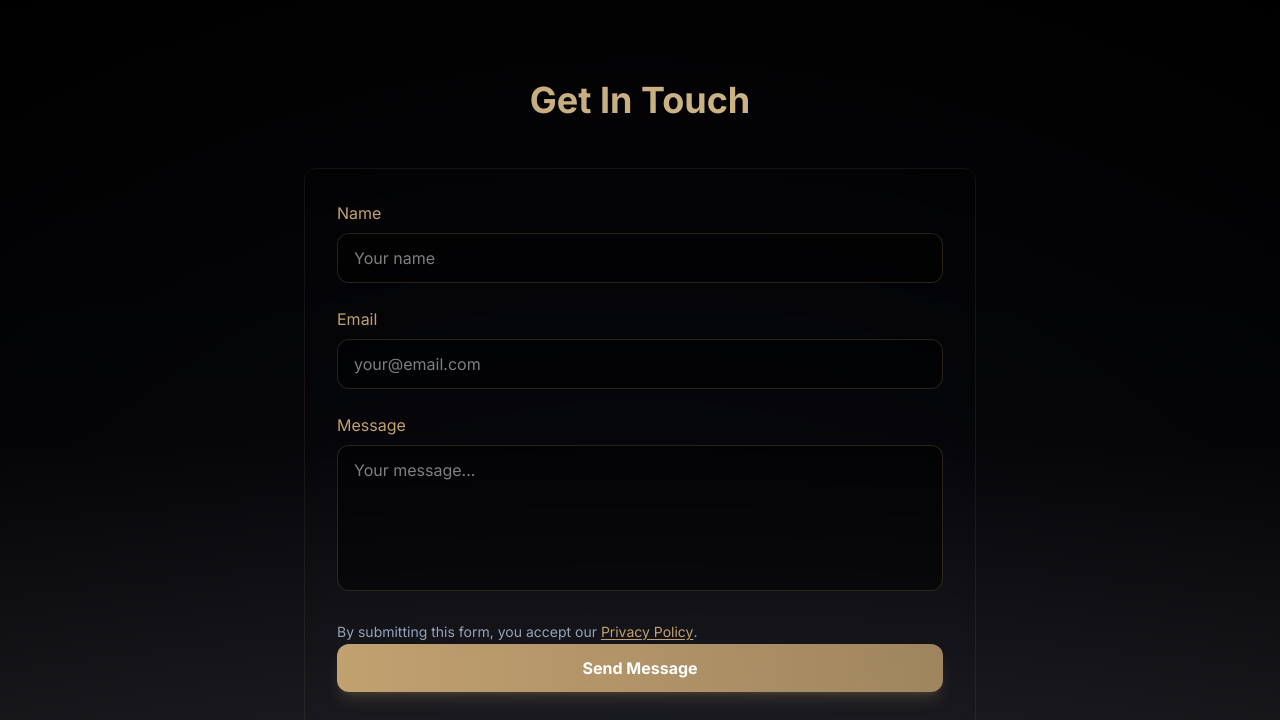
it: Contact Component › Form Submission with API URL from Environment Variable › shows error message if fetch itself throws an error (env var)
Type "Test User" into the field labelled "Name".
click(640, 258); type("Test User")  # box [337, 233, 943, 283]
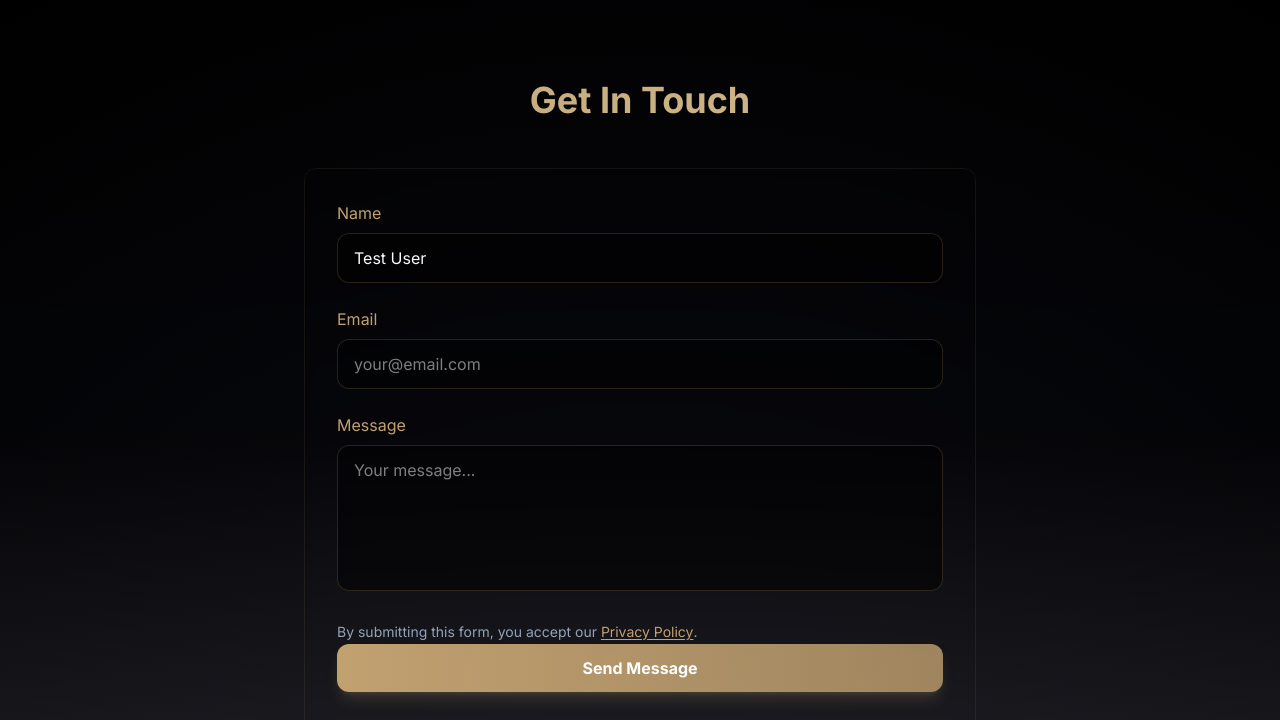
Type "test@example.com" into the field labelled "Email".
click(640, 364); type("test@example.com")  # box [337, 339, 943, 389]
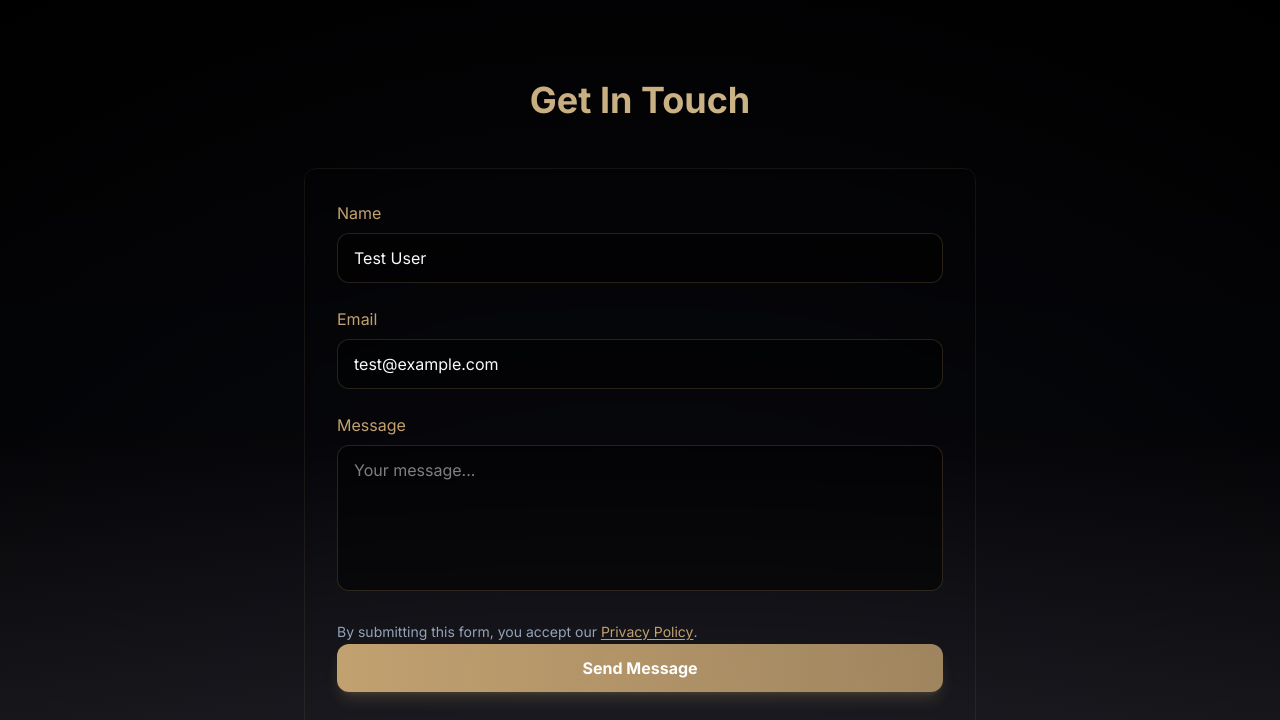
Type "Test message" into the text box labelled "Message".
click(640, 518); type("Test message")  # box [337, 445, 943, 591]
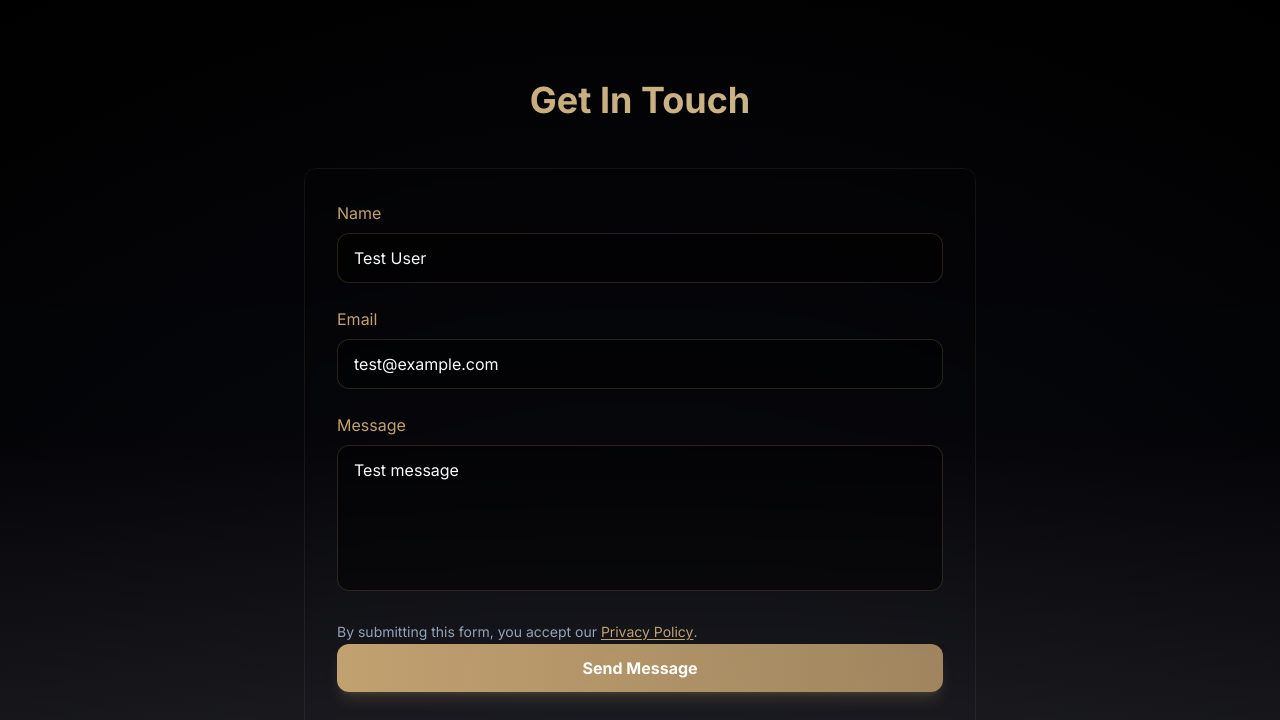
Click the button "Send Message".
click(640, 668)  # box [337, 644, 943, 692]
(page scrolled)
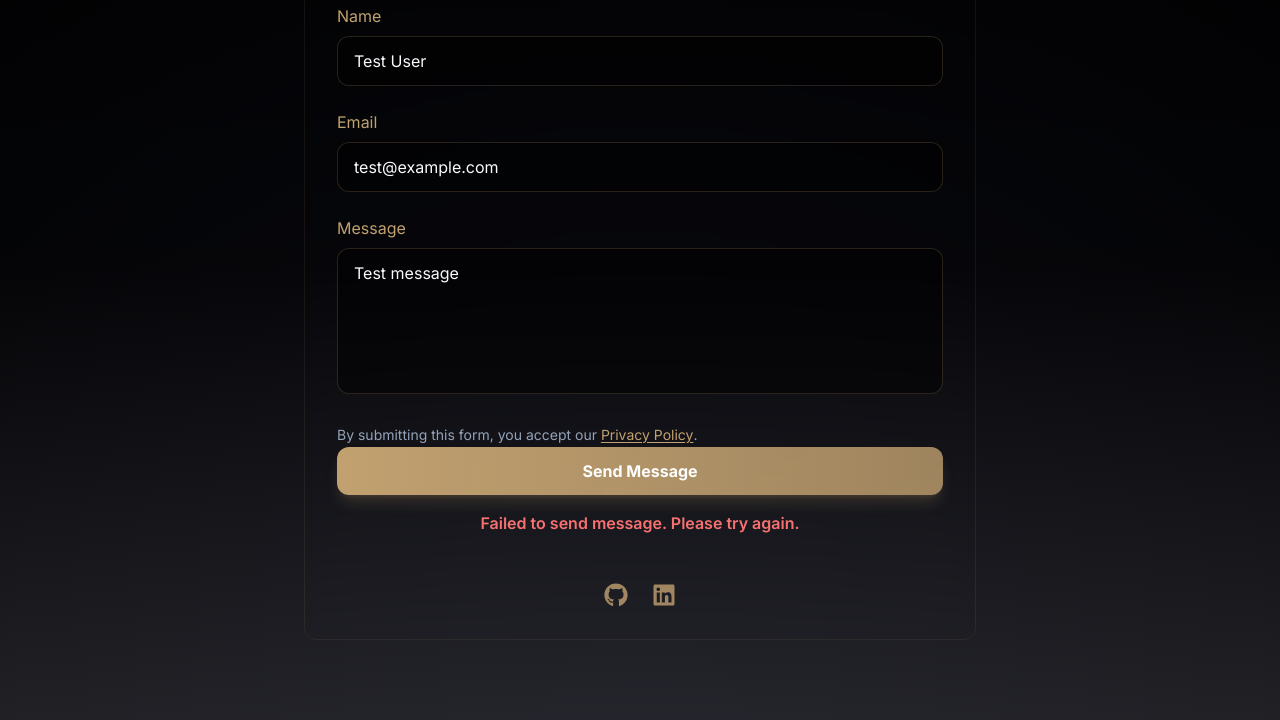
Result: the text "Failed to send message. Please try again." is shown at [480, 513, 800, 533]
